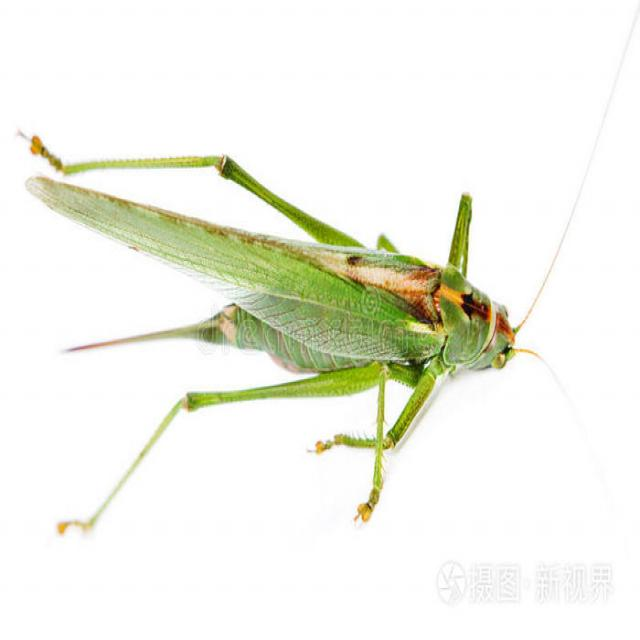ZhaMeng: (28, 93, 539, 497)
